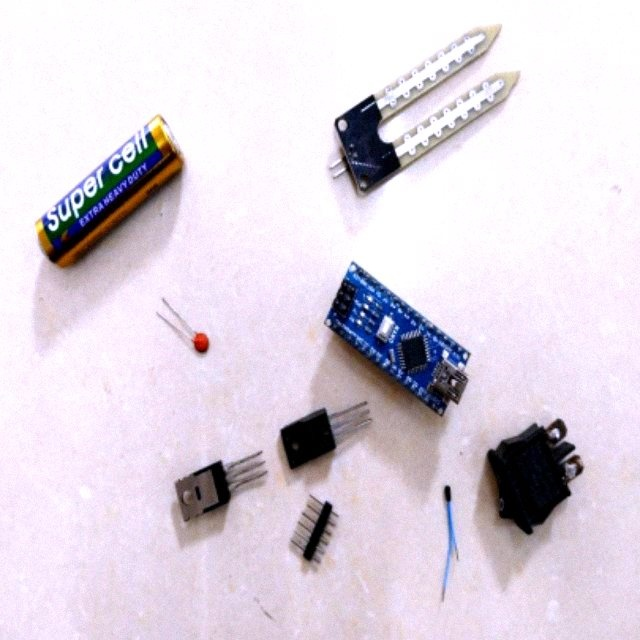capacitor: (165, 310, 209, 358)
